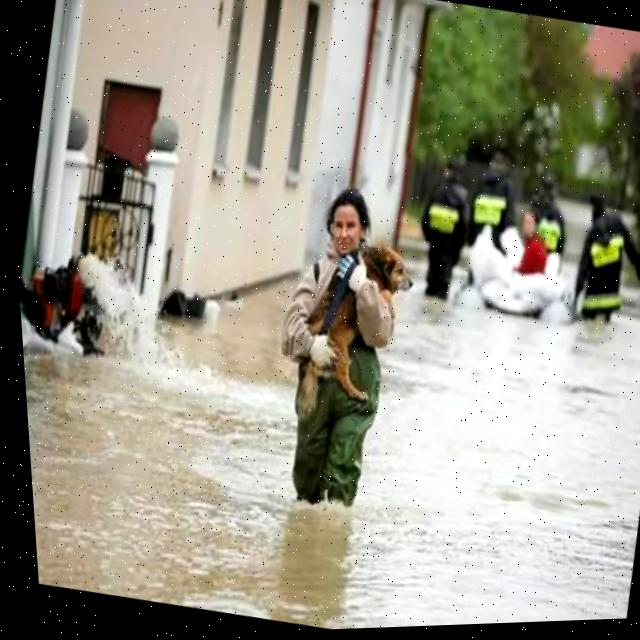civilian: (226, 159, 453, 549), (501, 208, 564, 300)
dog: (280, 220, 437, 427)
rescuer: (394, 147, 489, 317), (553, 181, 640, 342), (453, 151, 523, 257), (533, 205, 578, 266)
